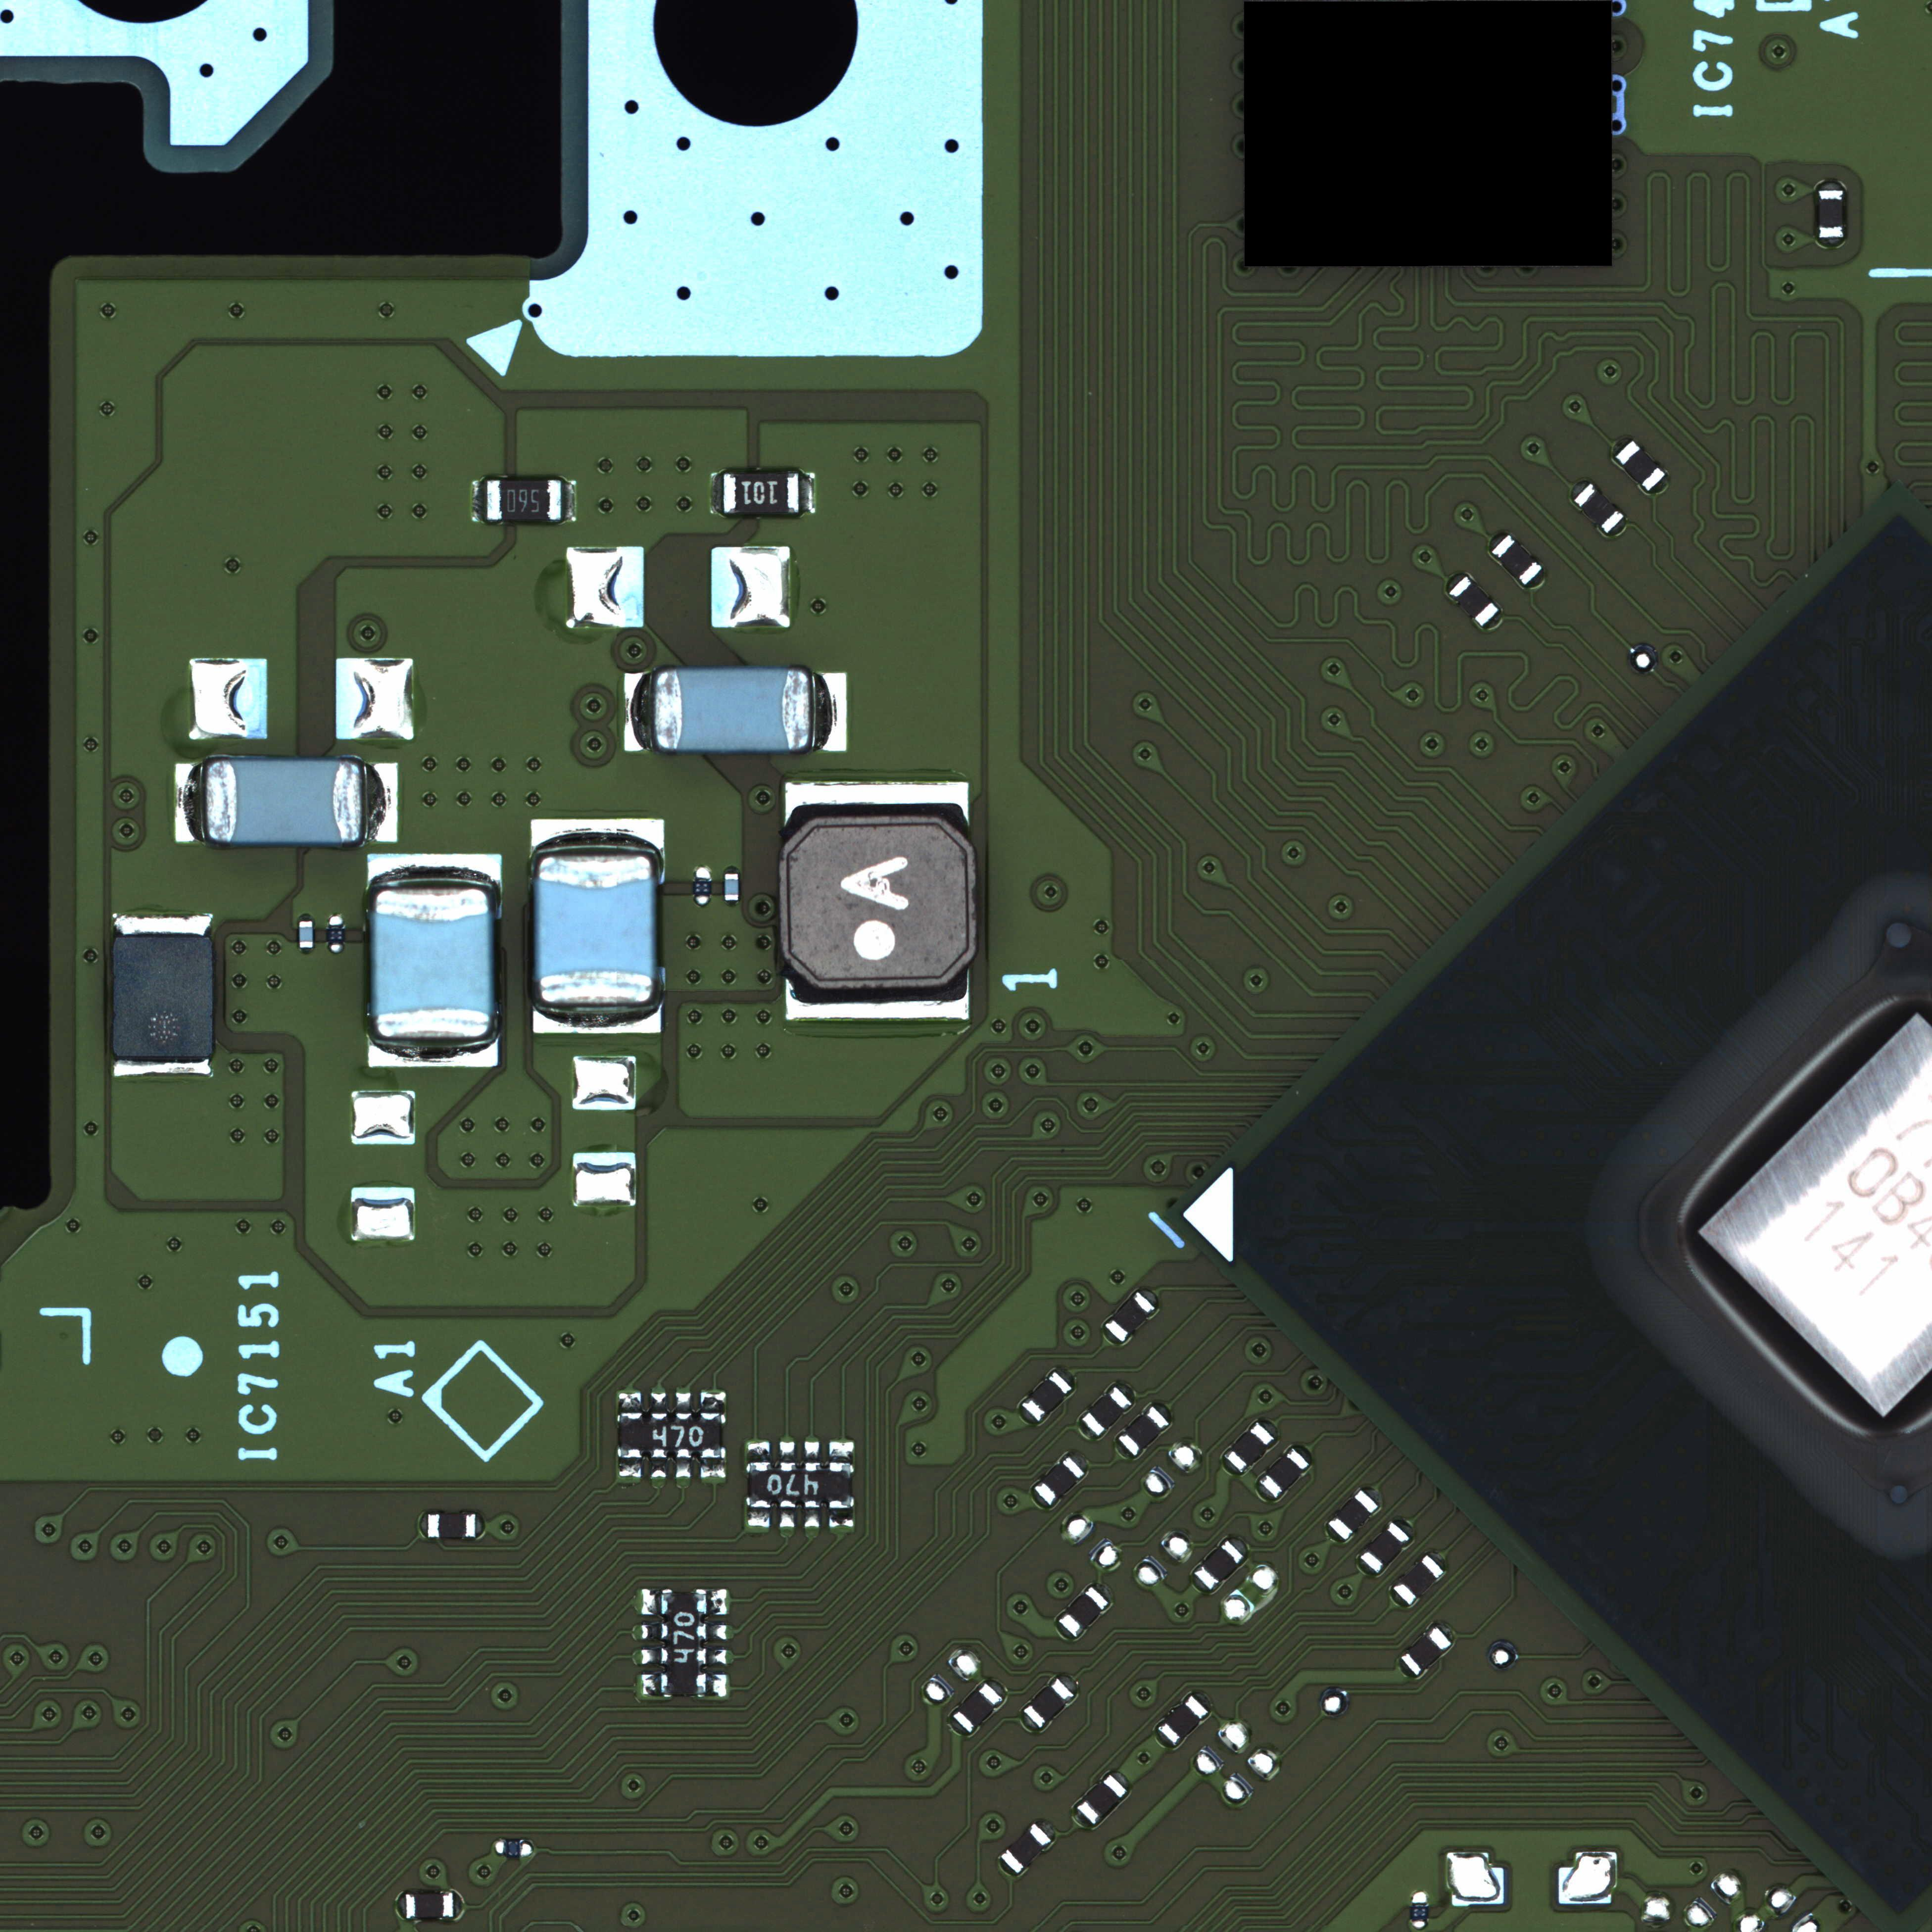Package: (778, 804, 979, 1004), (374, 888, 491, 1039), (538, 856, 653, 1003), (654, 667, 810, 751), (206, 759, 362, 843), (112, 937, 214, 1058), (749, 1462, 851, 1509), (621, 1412, 721, 1458), (661, 1594, 706, 1694), (724, 473, 799, 514), (1193, 1540, 1246, 1593), (487, 483, 562, 520), (1448, 575, 1500, 628), (1056, 1586, 1110, 1638), (1075, 1774, 1128, 1826), (1359, 1521, 1411, 1574), (1327, 1489, 1379, 1541), (1393, 1554, 1445, 1606), (1023, 1677, 1075, 1729), (952, 1682, 1005, 1734), (1491, 534, 1543, 586), (1615, 439, 1666, 492), (1000, 1823, 1052, 1875), (1118, 1405, 1170, 1457), (1223, 1421, 1275, 1474), (1033, 1455, 1086, 1506), (1021, 1370, 1072, 1422), (1081, 1385, 1133, 1437), (1259, 1447, 1310, 1499), (1158, 1695, 1209, 1747), (1573, 483, 1625, 534), (1105, 1291, 1156, 1343), (1400, 1625, 1452, 1676), (405, 1892, 453, 1919), (428, 1513, 476, 1539), (1818, 190, 1843, 238), (724, 873, 739, 901), (299, 921, 313, 948)
Solder: (785, 781, 969, 816), (785, 989, 969, 1020), (531, 818, 665, 855), (367, 853, 502, 888), (533, 1003, 662, 1033), (368, 1039, 498, 1067), (362, 763, 398, 843), (811, 673, 847, 752), (175, 763, 206, 843), (112, 913, 213, 936), (624, 673, 653, 752), (112, 1059, 214, 1078), (1066, 1805, 1096, 1835), (1034, 1814, 1063, 1842), (1148, 1727, 1176, 1755), (1014, 1710, 1042, 1738), (1048, 1618, 1077, 1646), (1109, 1436, 1136, 1465), (1215, 1455, 1243, 1482), (1250, 1481, 1278, 1508), (1647, 474, 1675, 501), (1067, 1447, 1095, 1473), (944, 1714, 971, 1741), (1090, 1578, 1118, 1604), (1152, 1398, 1178, 1424), (1097, 1325, 1124, 1351), (1013, 1404, 1040, 1430), (1073, 1419, 1101, 1445), (1257, 1414, 1284, 1441), (1392, 1514, 1419, 1540), (1137, 1284, 1164, 1309), (1054, 1363, 1080, 1389), (1185, 1572, 1211, 1598), (1025, 1488, 1051, 1514), (1352, 1556, 1379, 1582), (984, 1674, 1012, 1699), (1114, 1378, 1141, 1403), (1426, 1546, 1452, 1572), (1057, 1670, 1083, 1696), (1191, 1688, 1217, 1713), (799, 473, 816, 514), (1525, 568, 1551, 593), (1482, 610, 1508, 635), (1292, 1440, 1317, 1465), (1385, 1588, 1410, 1613), (1360, 1481, 1386, 1506), (1435, 1618, 1459, 1644), (1226, 1532, 1252, 1557), (1109, 1766, 1135, 1791), (1606, 516, 1631, 541), (472, 481, 486, 523), (1321, 1523, 1346, 1548), (994, 1856, 1019, 1882), (1565, 476, 1591, 500), (1483, 527, 1508, 552), (1440, 568, 1465, 593), (1607, 433, 1633, 457), (1393, 1658, 1417, 1683), (828, 1441, 855, 1462), (709, 473, 723, 513), (707, 1589, 728, 1615), (562, 480, 575, 522), (700, 1391, 726, 1412), (641, 1589, 661, 1615), (617, 1391, 641, 1412), (701, 1458, 726, 1478), (707, 1674, 728, 1697), (828, 1509, 854, 1528), (747, 1441, 770, 1462), (747, 1509, 771, 1529), (619, 1459, 642, 1479), (641, 1674, 661, 1696), (1814, 238, 1846, 249), (650, 1392, 667, 1412), (706, 1649, 727, 1666), (1814, 179, 1845, 190), (778, 1509, 796, 1529), (640, 1648, 661, 1665), (804, 1441, 820, 1462), (650, 1459, 667, 1479), (640, 1624, 661, 1640), (675, 1392, 691, 1412), (707, 1625, 727, 1641), (779, 1441, 795, 1462), (675, 1458, 691, 1478), (394, 1890, 405, 1920), (454, 1891, 465, 1921), (804, 1509, 820, 1529), (476, 1512, 486, 1541), (419, 1512, 428, 1540), (297, 913, 315, 920), (297, 948, 314, 955), (723, 866, 740, 872), (724, 901, 741, 908)
